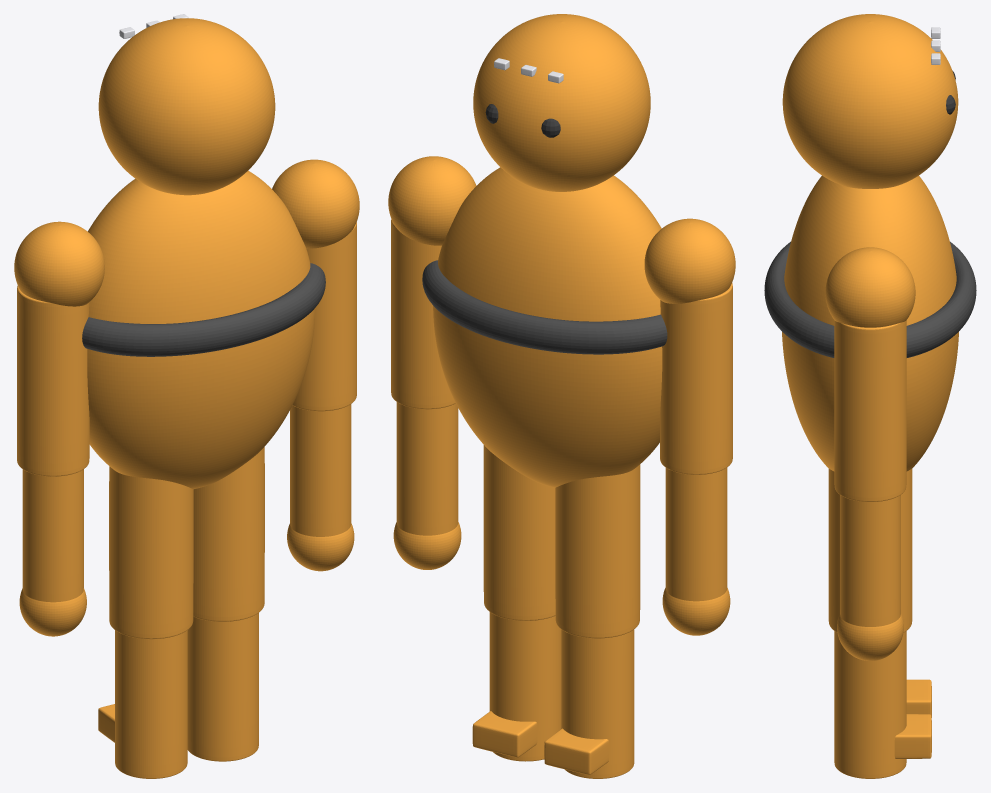
Rendered from Dummy_It_Hi.fbx.
3 views of the same model, side by side, from view 1: azimuth 30°, elevation 25°; view 2: azimuth 150°, elevation 25°; view 3: azimuth 270°, elevation 25° (orthographic).
Visible parts, largest first — view 1: Torso, Head, UpperLeg_L, UpperArm_L, UpperLeg_R, LowerLeg_L, LowerLeg_R, Band, LowerArm_L, LowerArm_R, UpperArm_R, Shoulder_L (+3 smaller); view 2: Torso, Head, UpperLeg_L, UpperArm_L, UpperLeg_R, LowerLeg_L, Band, LowerLeg_R, LowerArm_L, LowerArm_R, UpperArm_R, Shoulder_L (+5 smaller); view 3: Head, Torso, UpperArm_R, LowerLeg_R, LowerArm_R, Band, Shoulder_R, UpperLeg_R, Hand_R, Foot_R, Foot_L.
Part boxes in pixels (x1=…): Torso: x1=87, y1=170, x2=315, y2=489; Head: x1=98, y1=18, x2=275, y2=195; UpperLeg_L: x1=109, y1=466, x2=193, y2=639; UpperArm_L: x1=17, y1=285, x2=89, y2=476; UpperLeg_R: x1=193, y1=447, x2=264, y2=621; LowerLeg_L: x1=115, y1=630, x2=187, y2=778; LowerLeg_R: x1=187, y1=613, x2=258, y2=761; Band: x1=82, y1=263, x2=325, y2=356; LowerArm_L: x1=22, y1=469, x2=83, y2=602; LowerArm_R: x1=290, y1=404, x2=351, y2=536; UpperArm_R: x1=292, y1=222, x2=356, y2=411; Shoulder_L: x1=14, y1=221, x2=104, y2=306; Torso: x1=433, y1=167, x2=662, y2=487; Head: x1=473, y1=14, x2=650, y2=191; UpperLeg_L: x1=555, y1=464, x2=640, y2=638; UpperArm_L: x1=660, y1=282, x2=732, y2=474; UpperLeg_R: x1=483, y1=445, x2=555, y2=620; LowerLeg_L: x1=561, y1=629, x2=634, y2=778; Band: x1=422, y1=260, x2=667, y2=354; LowerLeg_R: x1=489, y1=612, x2=561, y2=761; LowerArm_L: x1=665, y1=467, x2=727, y2=601; LowerArm_R: x1=396, y1=402, x2=458, y2=535; UpperArm_R: x1=391, y1=219, x2=455, y2=409; Shoulder_L: x1=644, y1=218, x2=735, y2=303; Head: x1=782, y1=14, x2=958, y2=188; Torso: x1=782, y1=175, x2=958, y2=471; UpperArm_R: x1=834, y1=320, x2=906, y2=501; LowerLeg_R: x1=834, y1=631, x2=906, y2=778; LowerArm_R: x1=840, y1=495, x2=900, y2=626; Band: x1=764, y1=241, x2=976, y2=357; Shoulder_R: x1=825, y1=247, x2=915, y2=327; UpperLeg_R: x1=828, y1=469, x2=912, y2=632; Hand_R: x1=837, y1=614, x2=903, y2=660; Foot_R: x1=894, y1=714, x2=931, y2=758; Foot_L: x1=906, y1=679, x2=931, y2=717.
Size of the model in its own units: 0.9946 by 2.08 by 0.5512.
